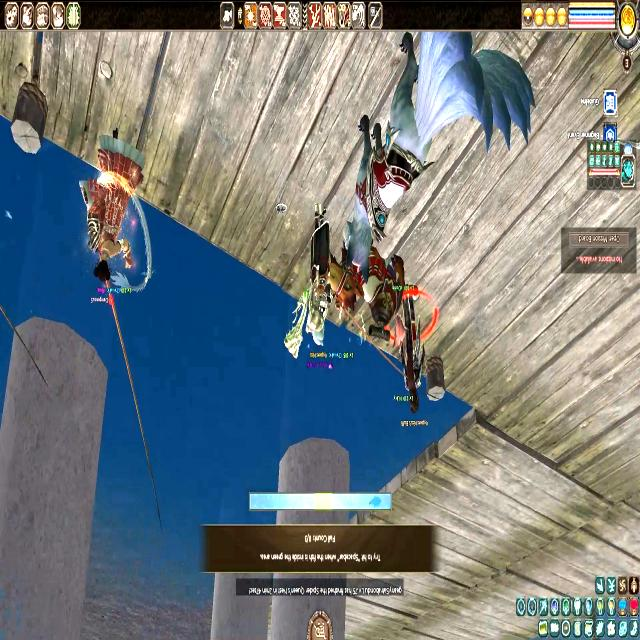fishes: (369, 494, 382, 509)
